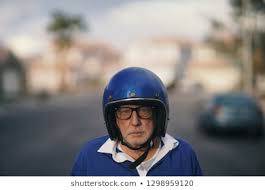helmet: (99, 64, 170, 149)
